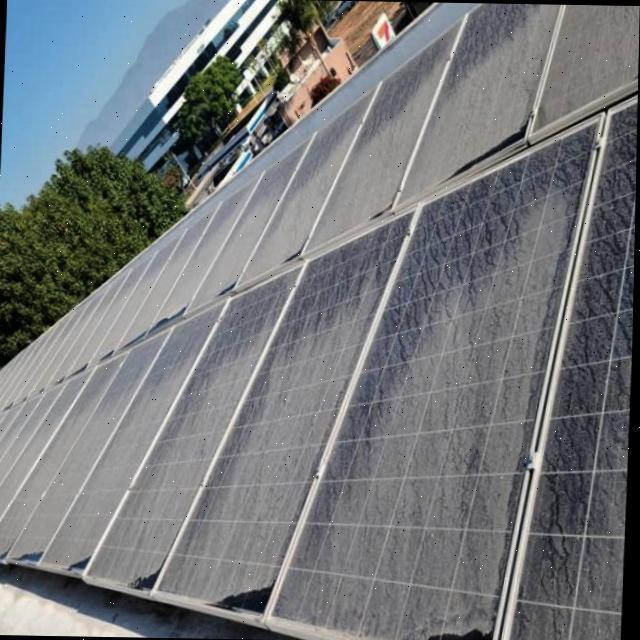Anomaly Solar Panel: (0, 3, 640, 407), (156, 183, 437, 637), (86, 246, 323, 608), (38, 283, 236, 586), (0, 327, 174, 566)
Surface Contaminant: (0, 3, 640, 406), (274, 81, 635, 640), (158, 180, 441, 635), (85, 247, 319, 605), (43, 285, 230, 579), (0, 329, 169, 563)
